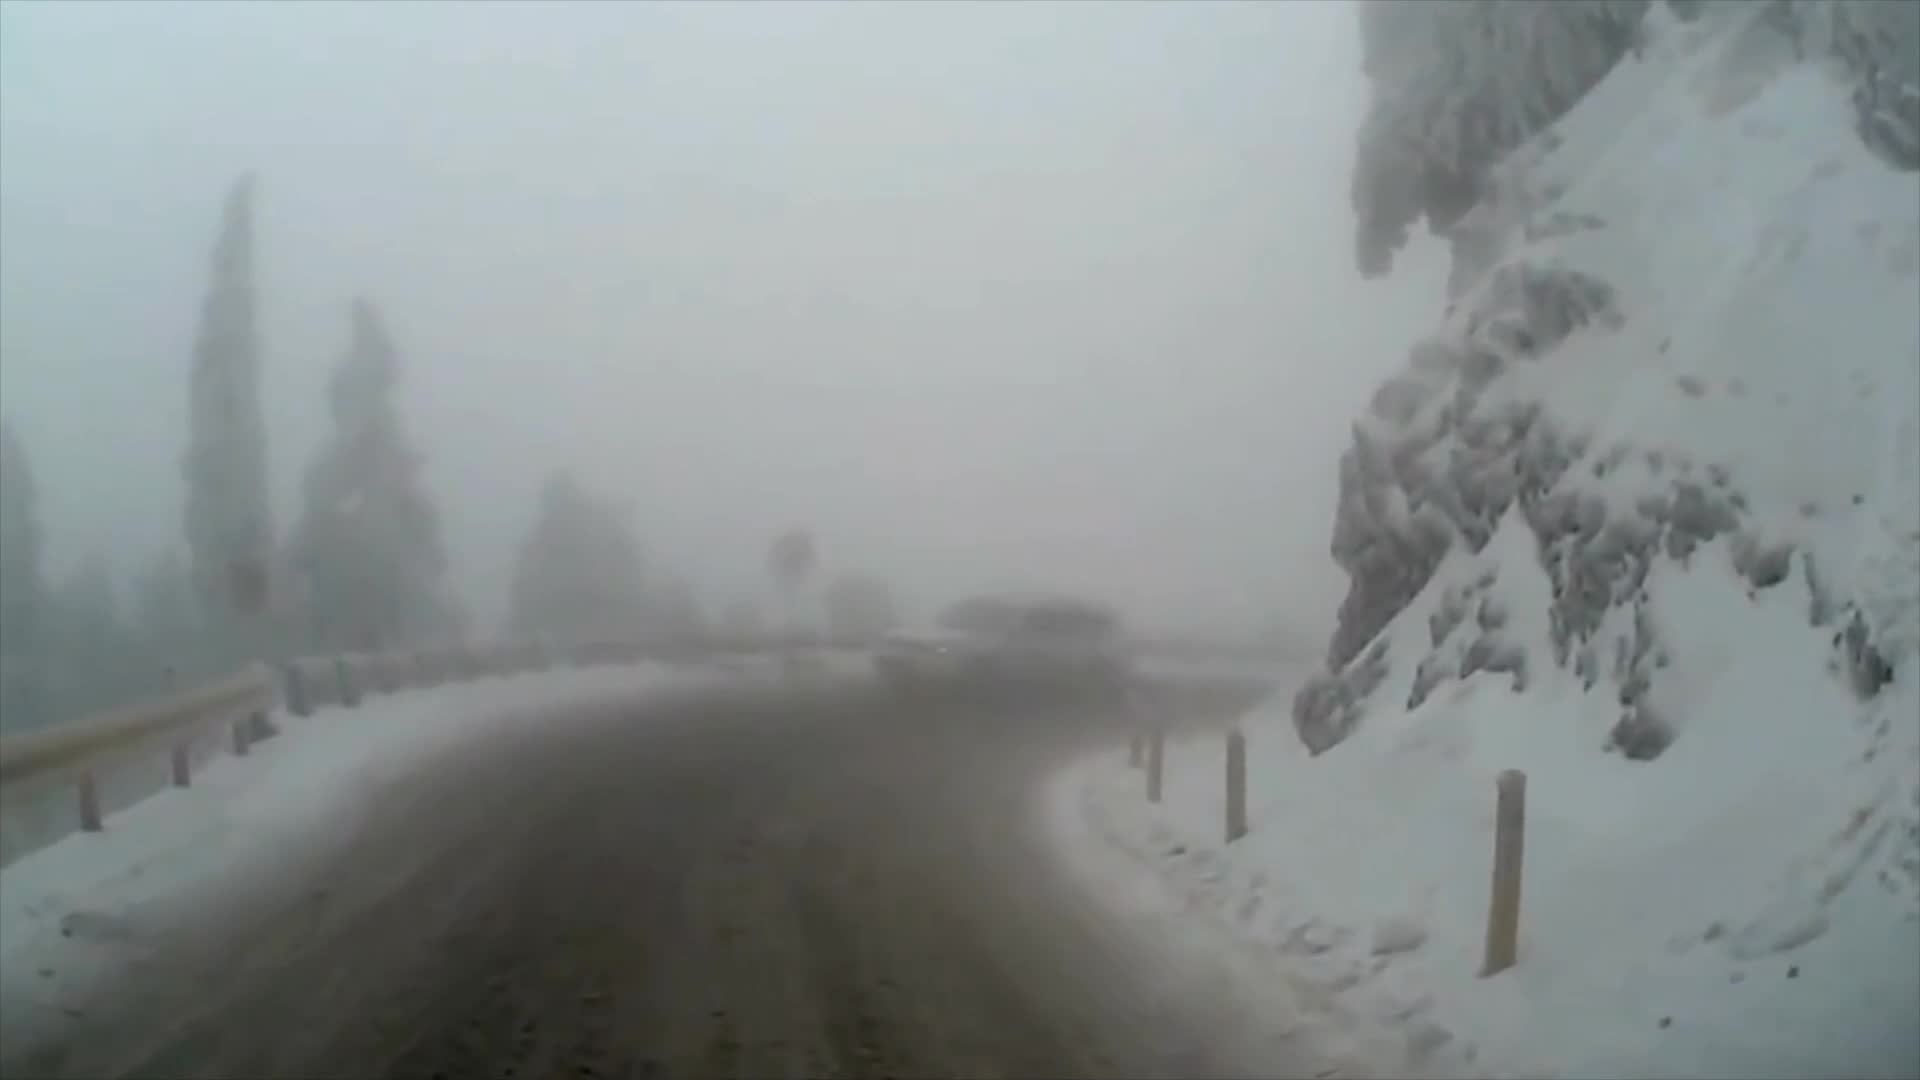vehicle: (870, 589, 1133, 711)
